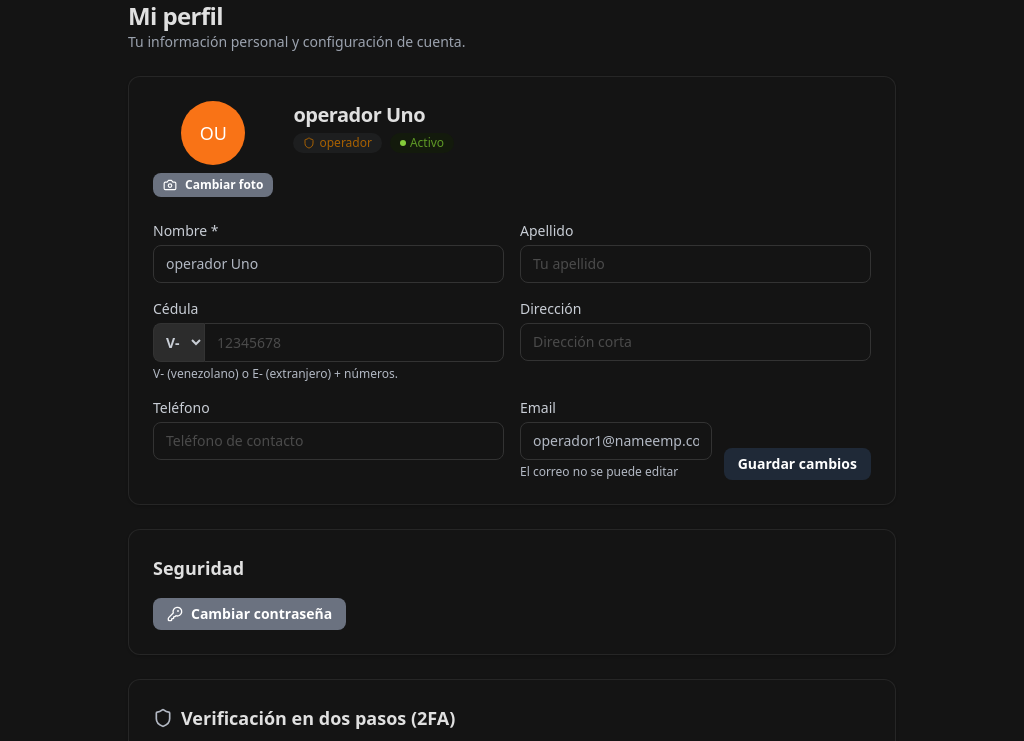
Scenario: ProfilePage — cambiar contraseña › muestra el error del backend si la contraseña actual es incorrecta
Click the button "Cambiar contraseña": click(250, 614) 153,598 -> 346,630
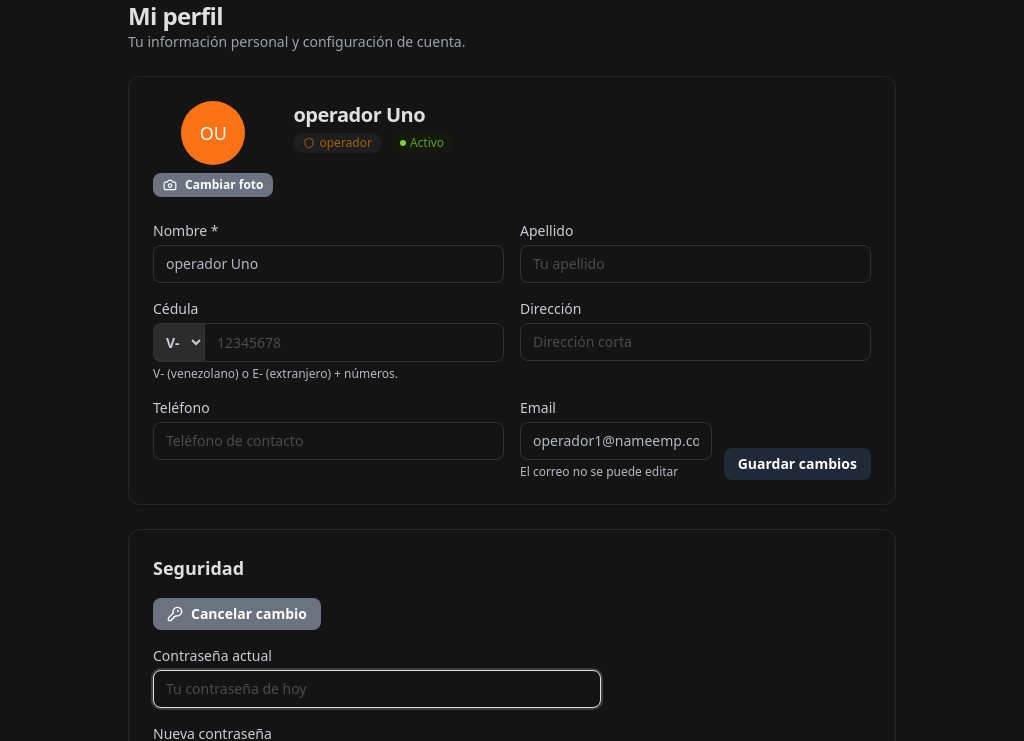
In the password field labelled "Contraseña actual": (377, 689) 153,670 -> 601,708, type "NoEsLaMia1!"
(page scrolled)
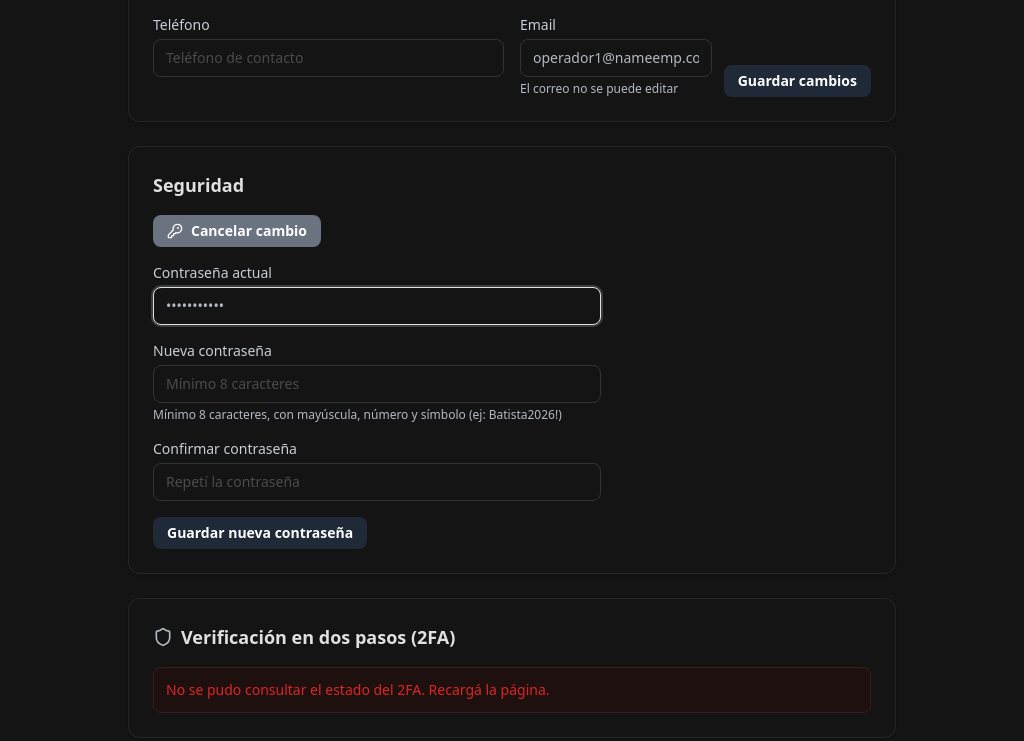
In the password field labelled "Nueva contraseña": (377, 384) 153,365 -> 601,403, type "Batista2027!"
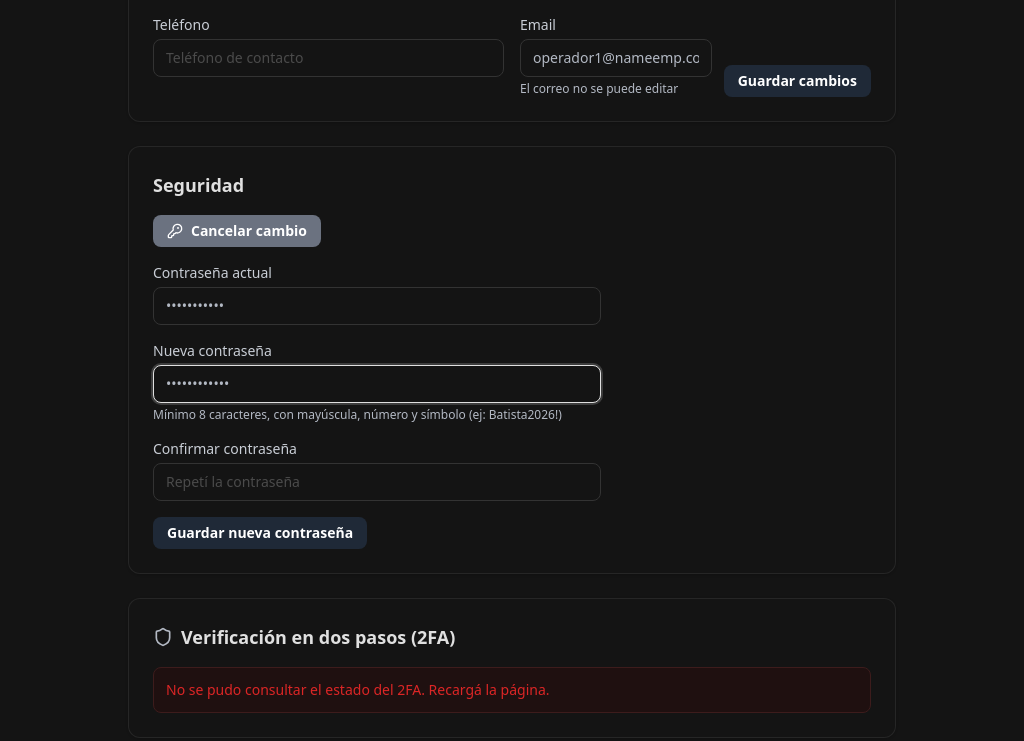
In the password field labelled "Confirmar contraseña": (377, 482) 153,463 -> 601,501, type "Batista2027!"
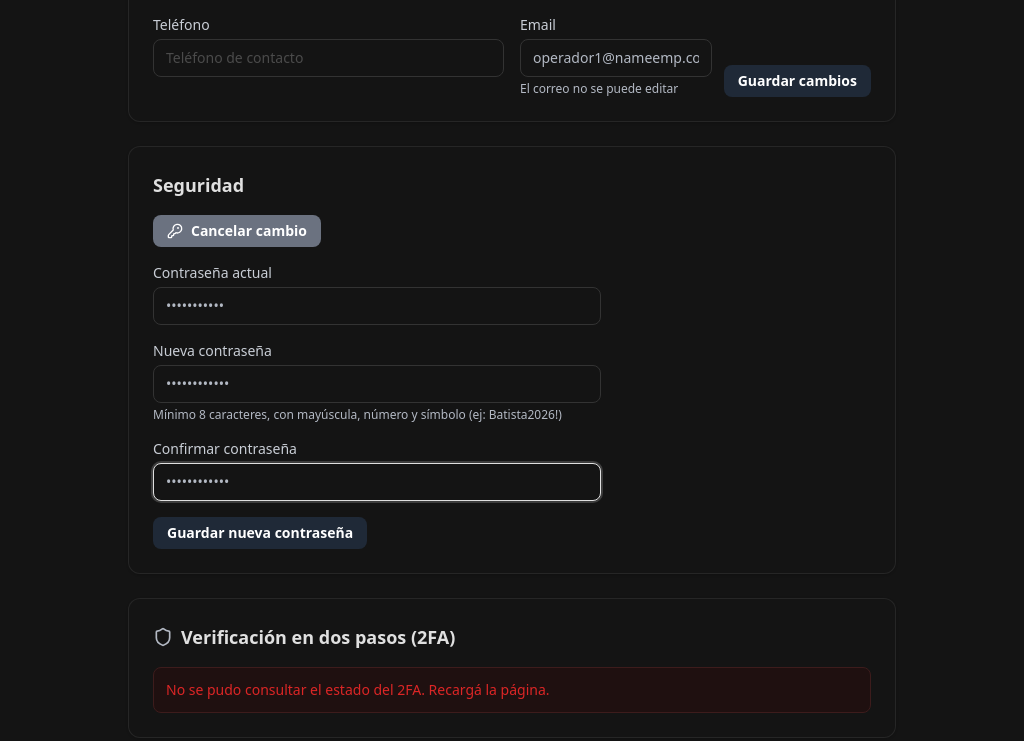
Click the button "Guardar nueva contraseña": click(260, 533) 153,517 -> 367,549
(page scrolled)
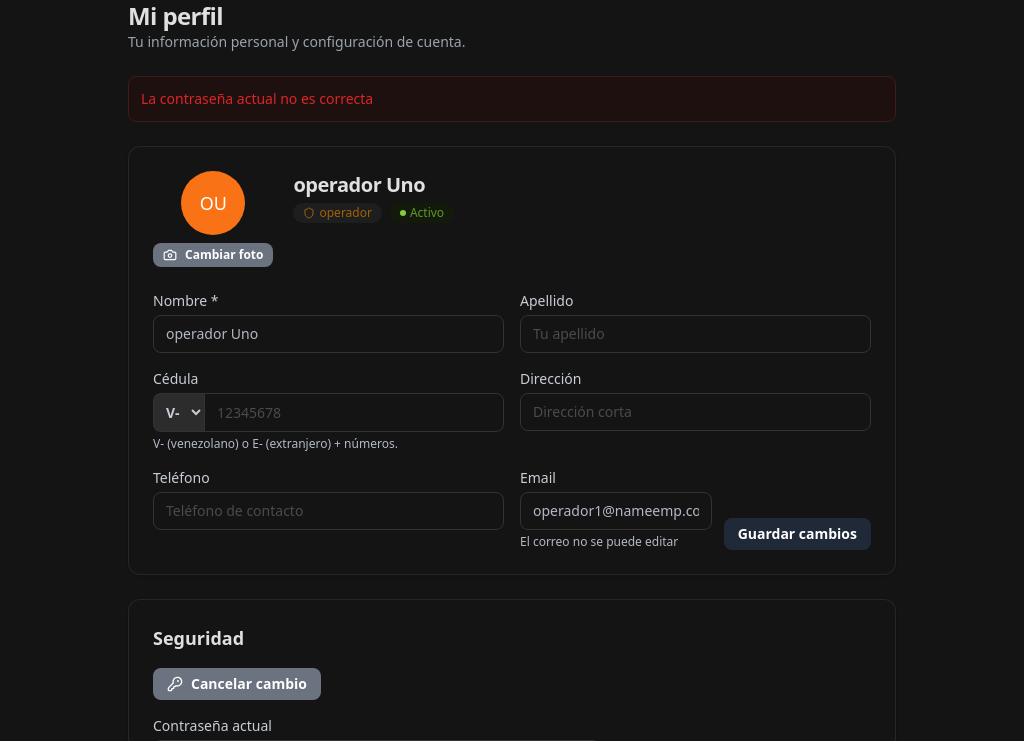
Now the text "La contraseña actual no es correcta" is shown, box 128,76 -> 896,122
